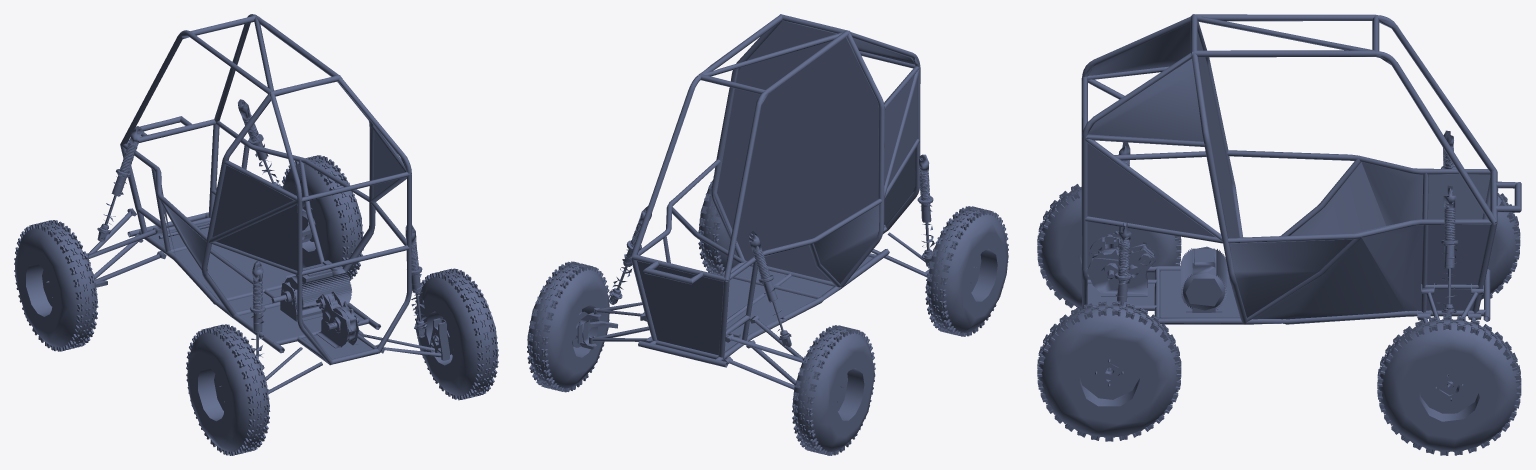
3 views of the same model, side by side, from view 1: azimuth 30°, elevation 25°; view 2: azimuth 150°, elevation 25°; view 3: azimuth 270°, elevation 25° (orthographic). The views are drawn at different scales.
Parts seen in each view (by area): view 1: =>[0:1:1:3]; view 2: =>[0:1:1:3]; view 3: =>[0:1:1:3].
Part boxes in pixels (bbox=[...]): =>[0:1:1:3]: bbox=[14, 14, 498, 455]; =>[0:1:1:3]: bbox=[527, 14, 1008, 455]; =>[0:1:1:3]: bbox=[1037, 14, 1521, 455].
Bounding box in the file's own units: 1.58 × 1.58 × 2.
